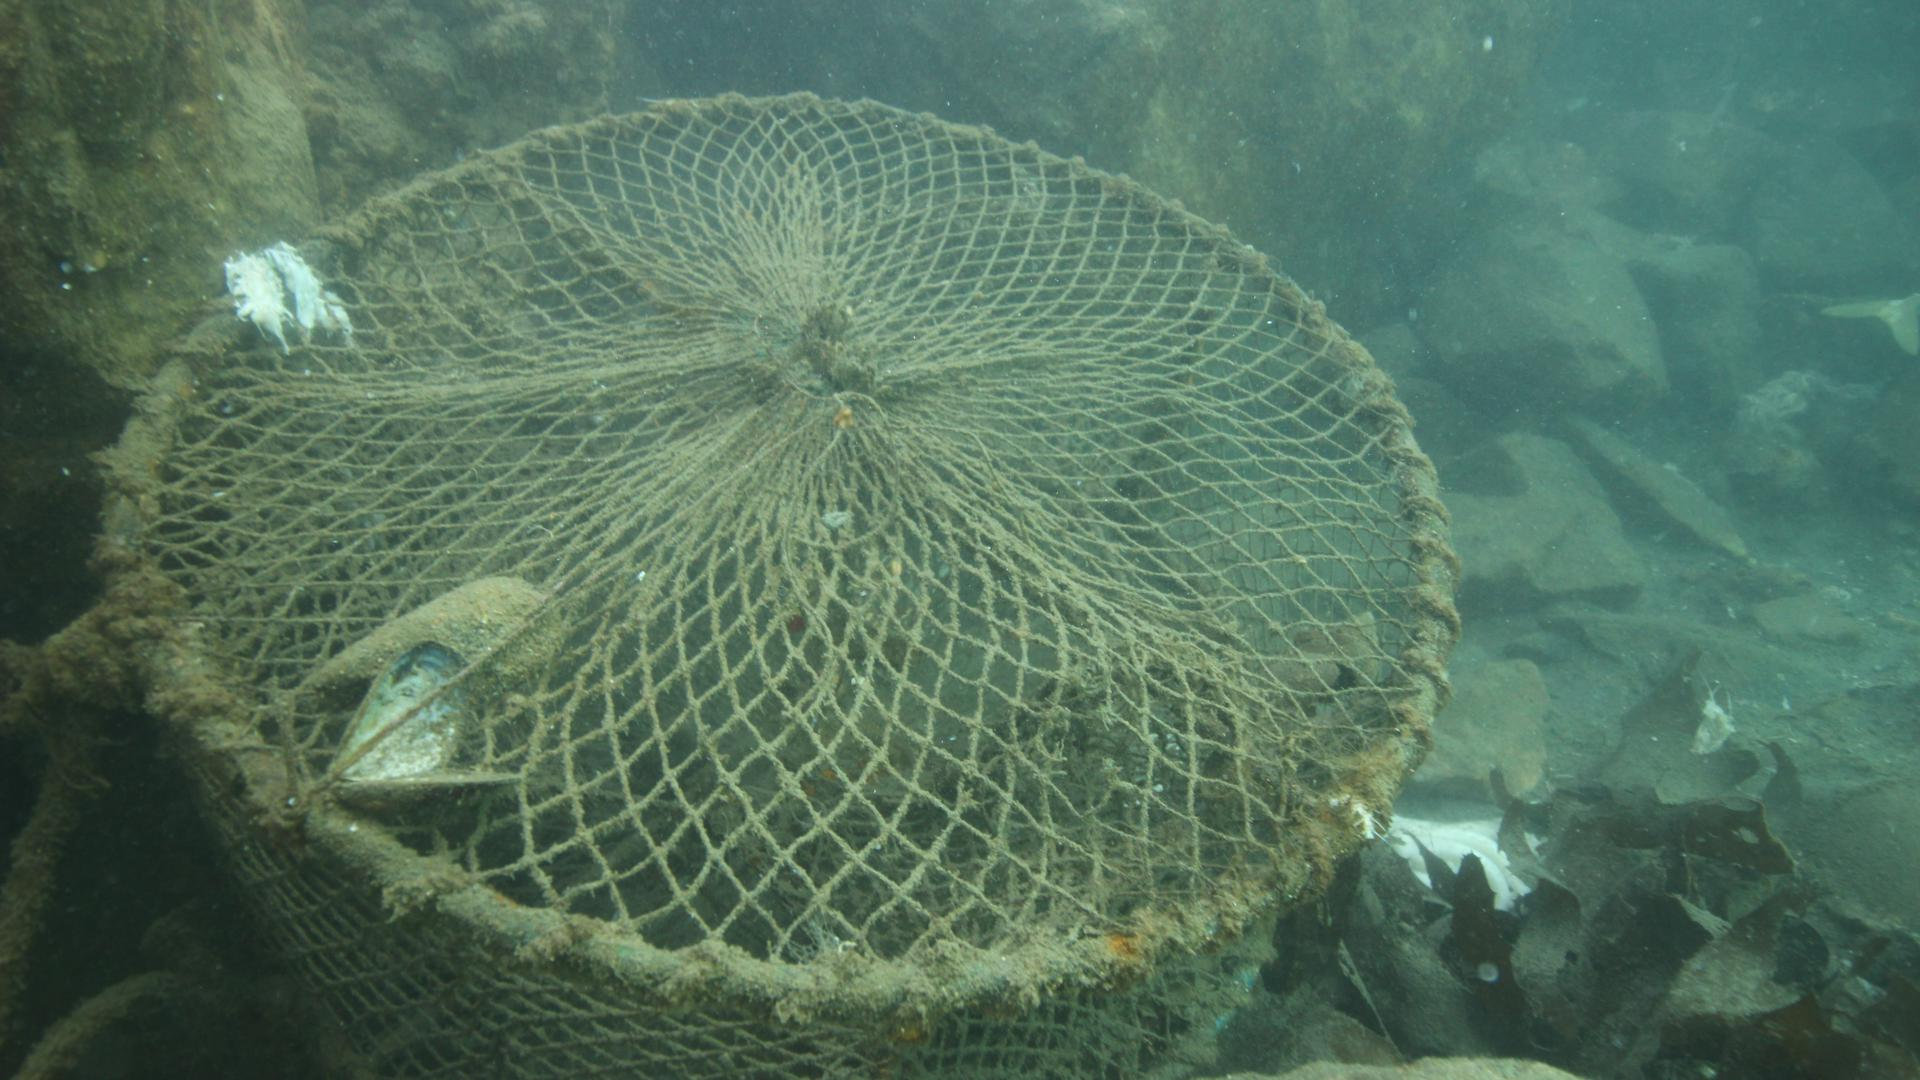circular fish trap: (84, 88, 1462, 1080)
